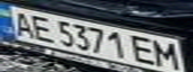1: (106, 29, 130, 58)
3: (69, 21, 90, 52)
5: (51, 18, 75, 47)
7: (87, 25, 109, 55)
A: (6, 8, 39, 38)
E: (127, 34, 160, 65), (27, 12, 57, 43)
M: (151, 38, 184, 70)
